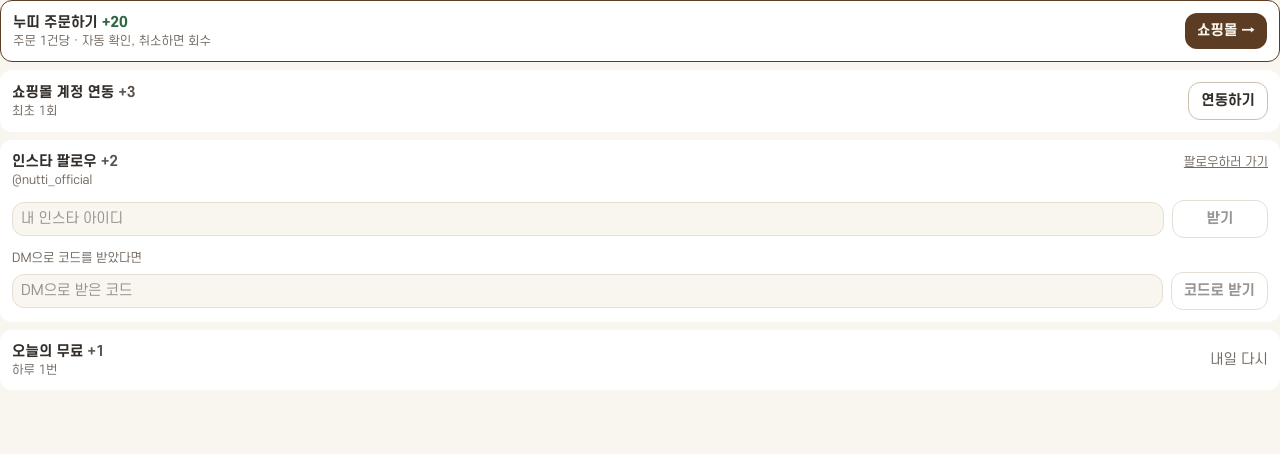
Scenario: EarnActionList › 받았는데 잔액이 여전히 음수면 숫자가 왜 안 움직이는지 말한다 (FR-EDGE-05)
Type "@kong.mom" into the field named "인스타그램 아이디" at x=588, y=219, box [12,202,1164,236]
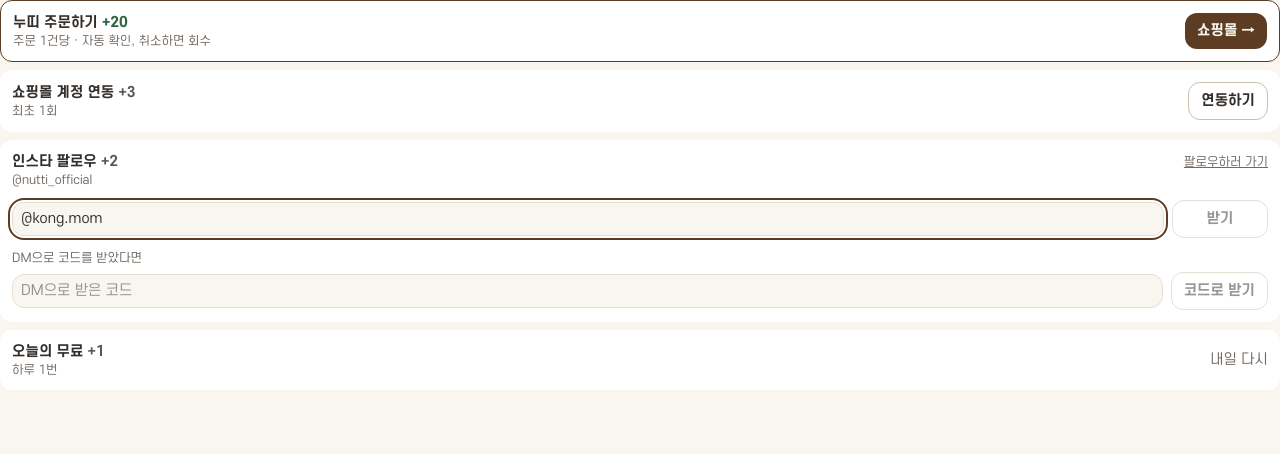
Click the link "팔로우하러 가기" at x=1226, y=162, box [1184,154,1268,170]
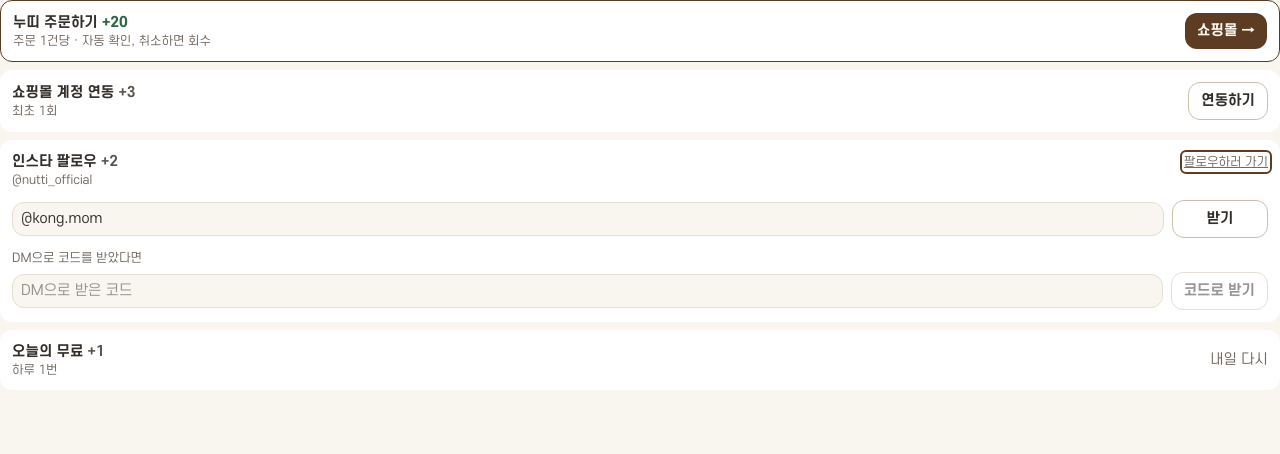
Expected: the button "받기" is enabled
Click the button "받기" at x=1220, y=219, box [1172,200,1268,238]
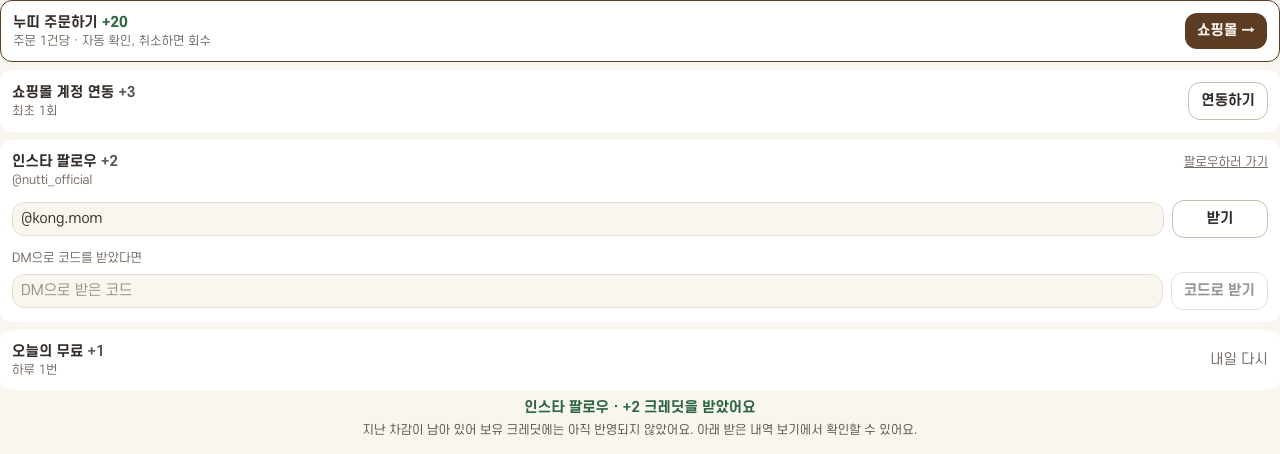
Expected: the text "인스타 팔로우 · +2 크레딧을 받았어요" is shown, [524,399,756,416]
Expected: the text "지난 차감이 남아 있어 보유 크레딧에는 아직 반영되지 않았어요. 아래 받은 내역 보기에서 확인할 수 있어요." is shown, [362,423,918,437]
